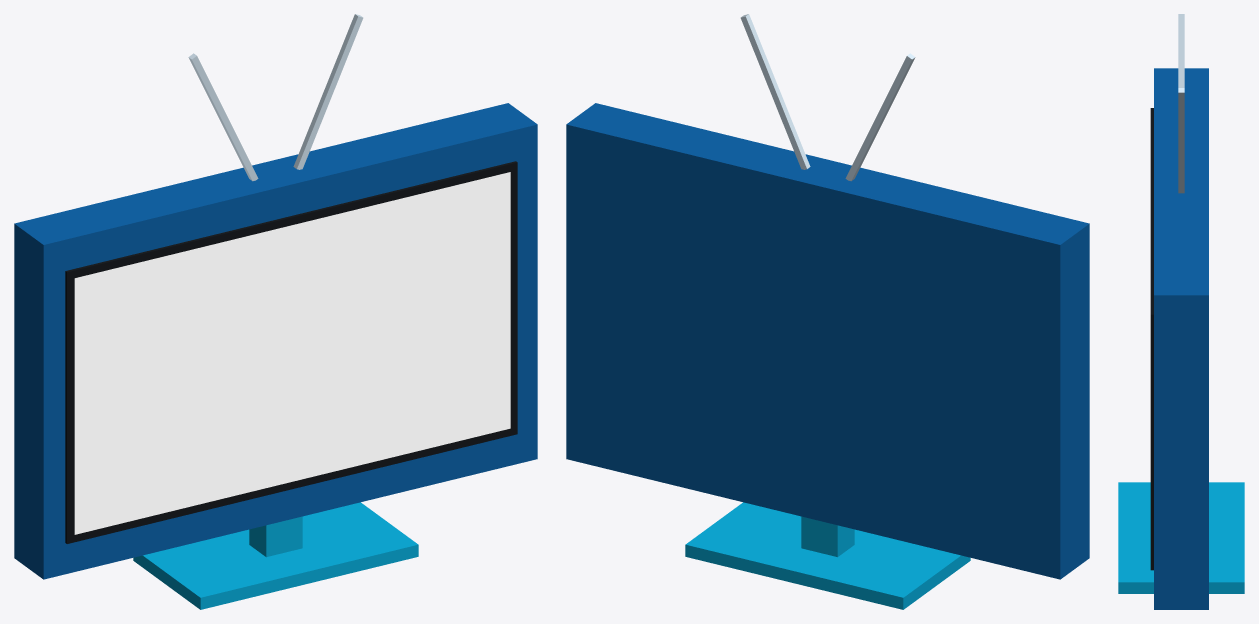
File: pantalla-cine.glb
3 renders of one model, left to right at view 1: azimuth 30°, elevation 25°; view 2: azimuth 150°, elevation 25°; view 3: azimuth 270°, elevation 25°, orthographic. The views are drawn at different scales.
Parts seen in each view (by area): view 1: pantalla, mueble, pie, marco, antena-der, cuello, antena-izq; view 2: mueble, pie, antena-der, cuello, antena-izq; view 3: mueble, pie, marco, antena-der, antena-izq.
Part boxes in pixels (x1,y1,x2,y2): pantalla: (74, 172, 510, 534); mueble: (14, 103, 537, 579); pie: (133, 502, 418, 609); marco: (65, 161, 517, 543); antena-der: (293, 14, 363, 169); cuello: (249, 516, 302, 557); antena-izq: (188, 53, 258, 181); mueble: (566, 103, 1089, 579); pie: (685, 502, 970, 609); antena-der: (740, 14, 810, 169); cuello: (801, 516, 854, 557); antena-izq: (845, 53, 915, 181); mueble: (1154, 68, 1208, 609); pie: (1118, 482, 1244, 593); marco: (1150, 108, 1153, 570); antena-der: (1178, 88, 1184, 193); antena-izq: (1178, 14, 1184, 87).
Size of what is drawn, in the model's own units: 0.68 by 0.689 by 0.16.
